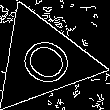O_SE: (7, 27, 78, 93)
